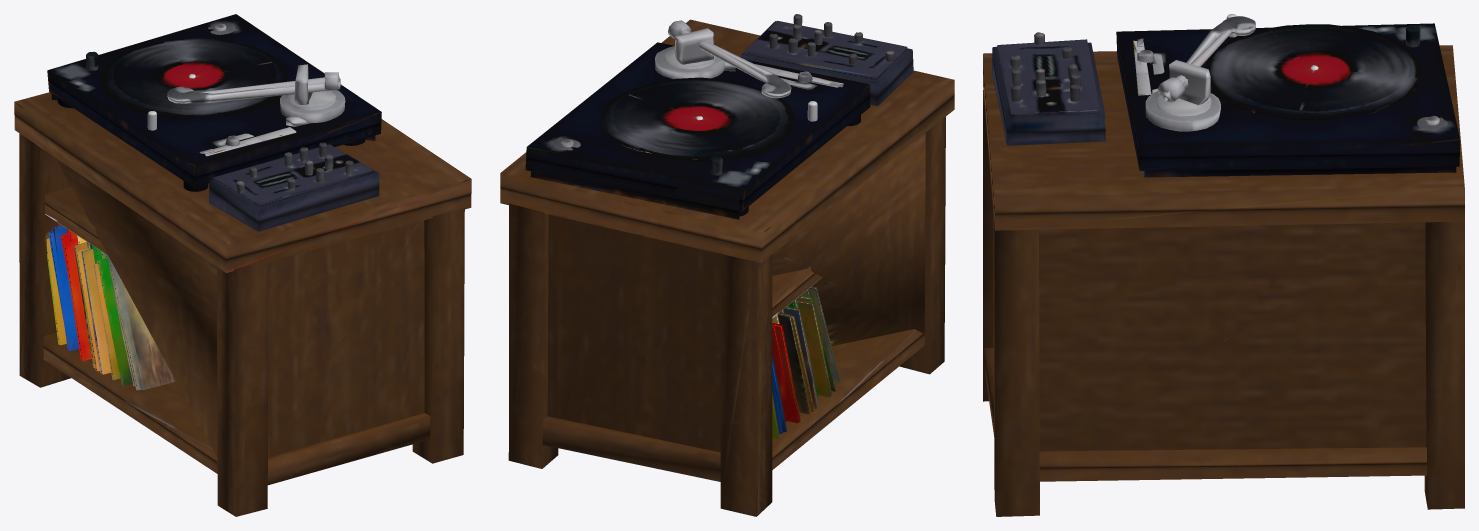
File: radio_tocadiscos.glb
The picture shows the model from 3 angles, left to right: view 1: azimuth 30°, elevation 25°; view 2: azimuth 150°, elevation 25°; view 3: azimuth 270°, elevation 25°; orthographic projection. The views are drawn at different scales.
Visible parts, largest first — view 1: geometry_0; view 2: geometry_0; view 3: geometry_0.
Boxes of the visible parts, box(x1,y1,x2,y2) form: geometry_0: box(14, 14, 471, 516); geometry_0: box(500, 14, 954, 516); geometry_0: box(983, 14, 1464, 516).
Bounding box in the file's own units: 0.747 × 0.9295 × 1.
Materials: 1 (1 with a texture image).
